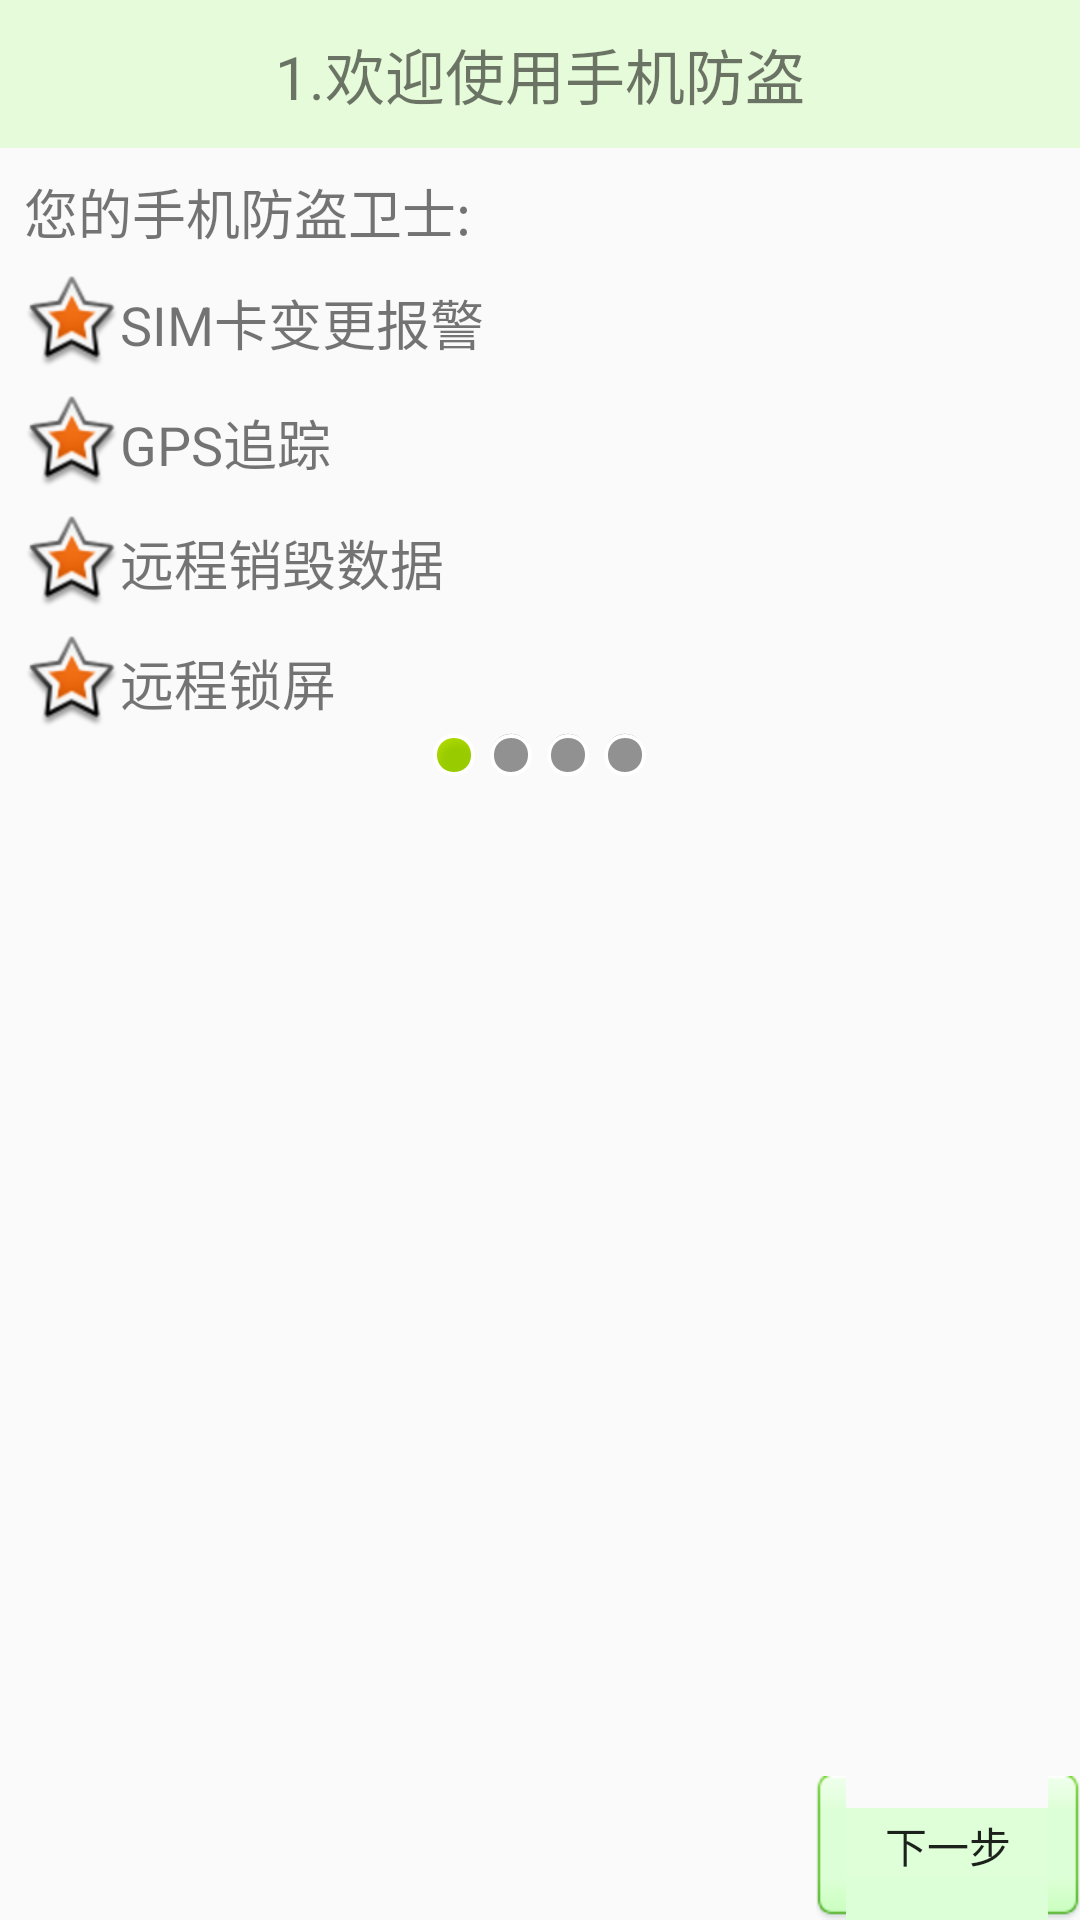

Point at icon controls on the screen. Image size 1080w x 1920h, points as (x,y).
presence invisible: (511,753), (568,753), (625,753)
presence online: (454,755)
